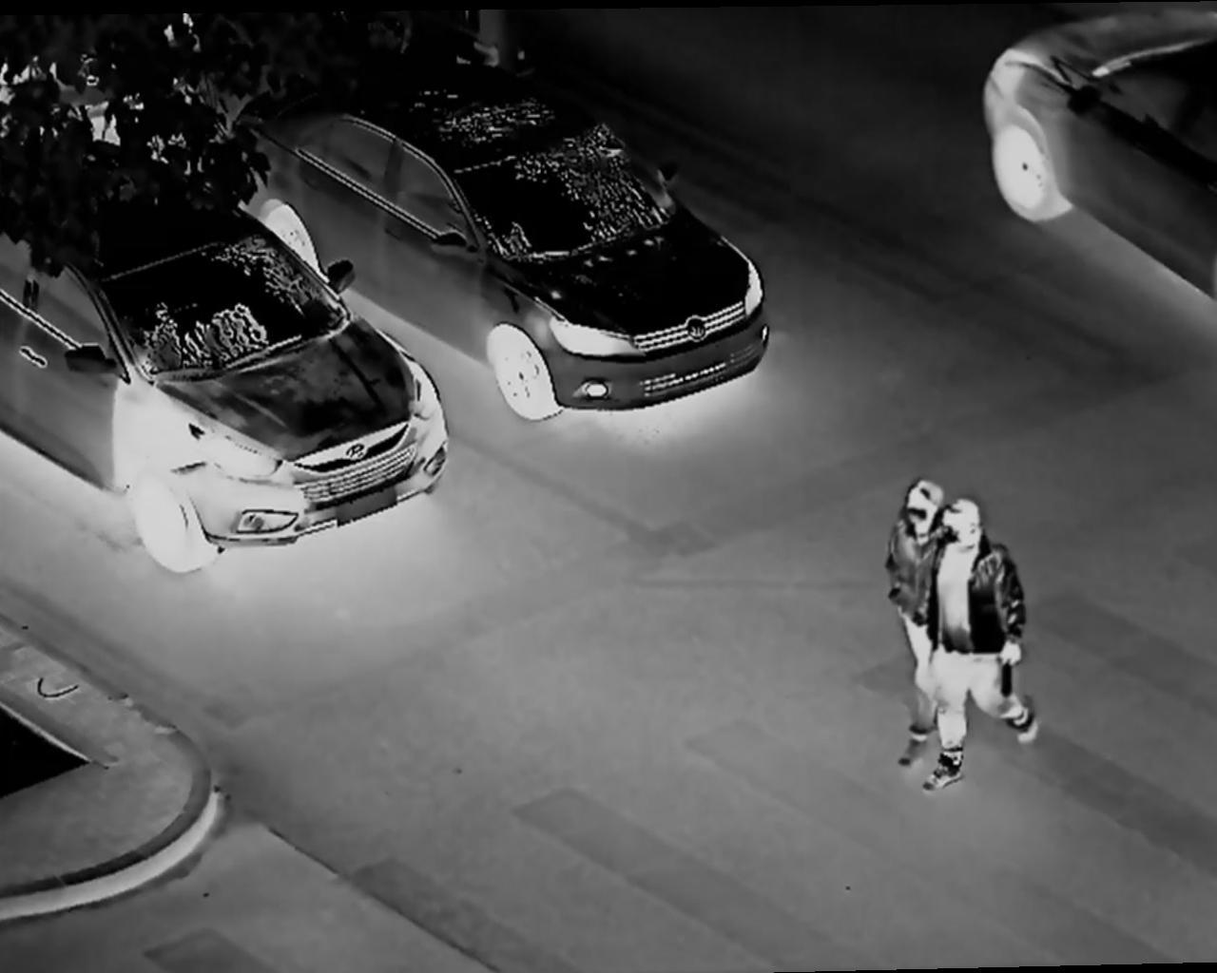person: (928, 499, 1044, 794), (888, 482, 943, 764)
